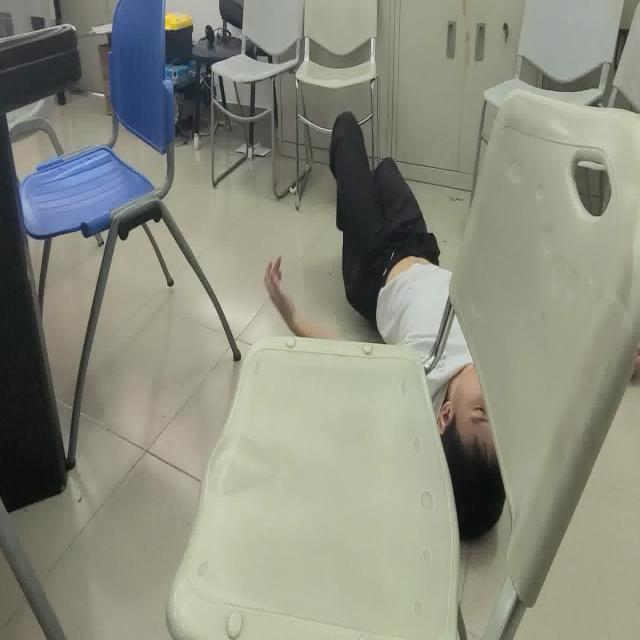Fall-Detected: (263, 111, 522, 535)
